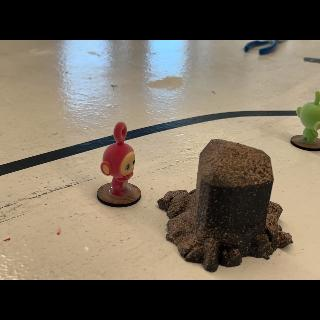teletubby: (100, 122, 135, 197), (296, 91, 320, 144)
